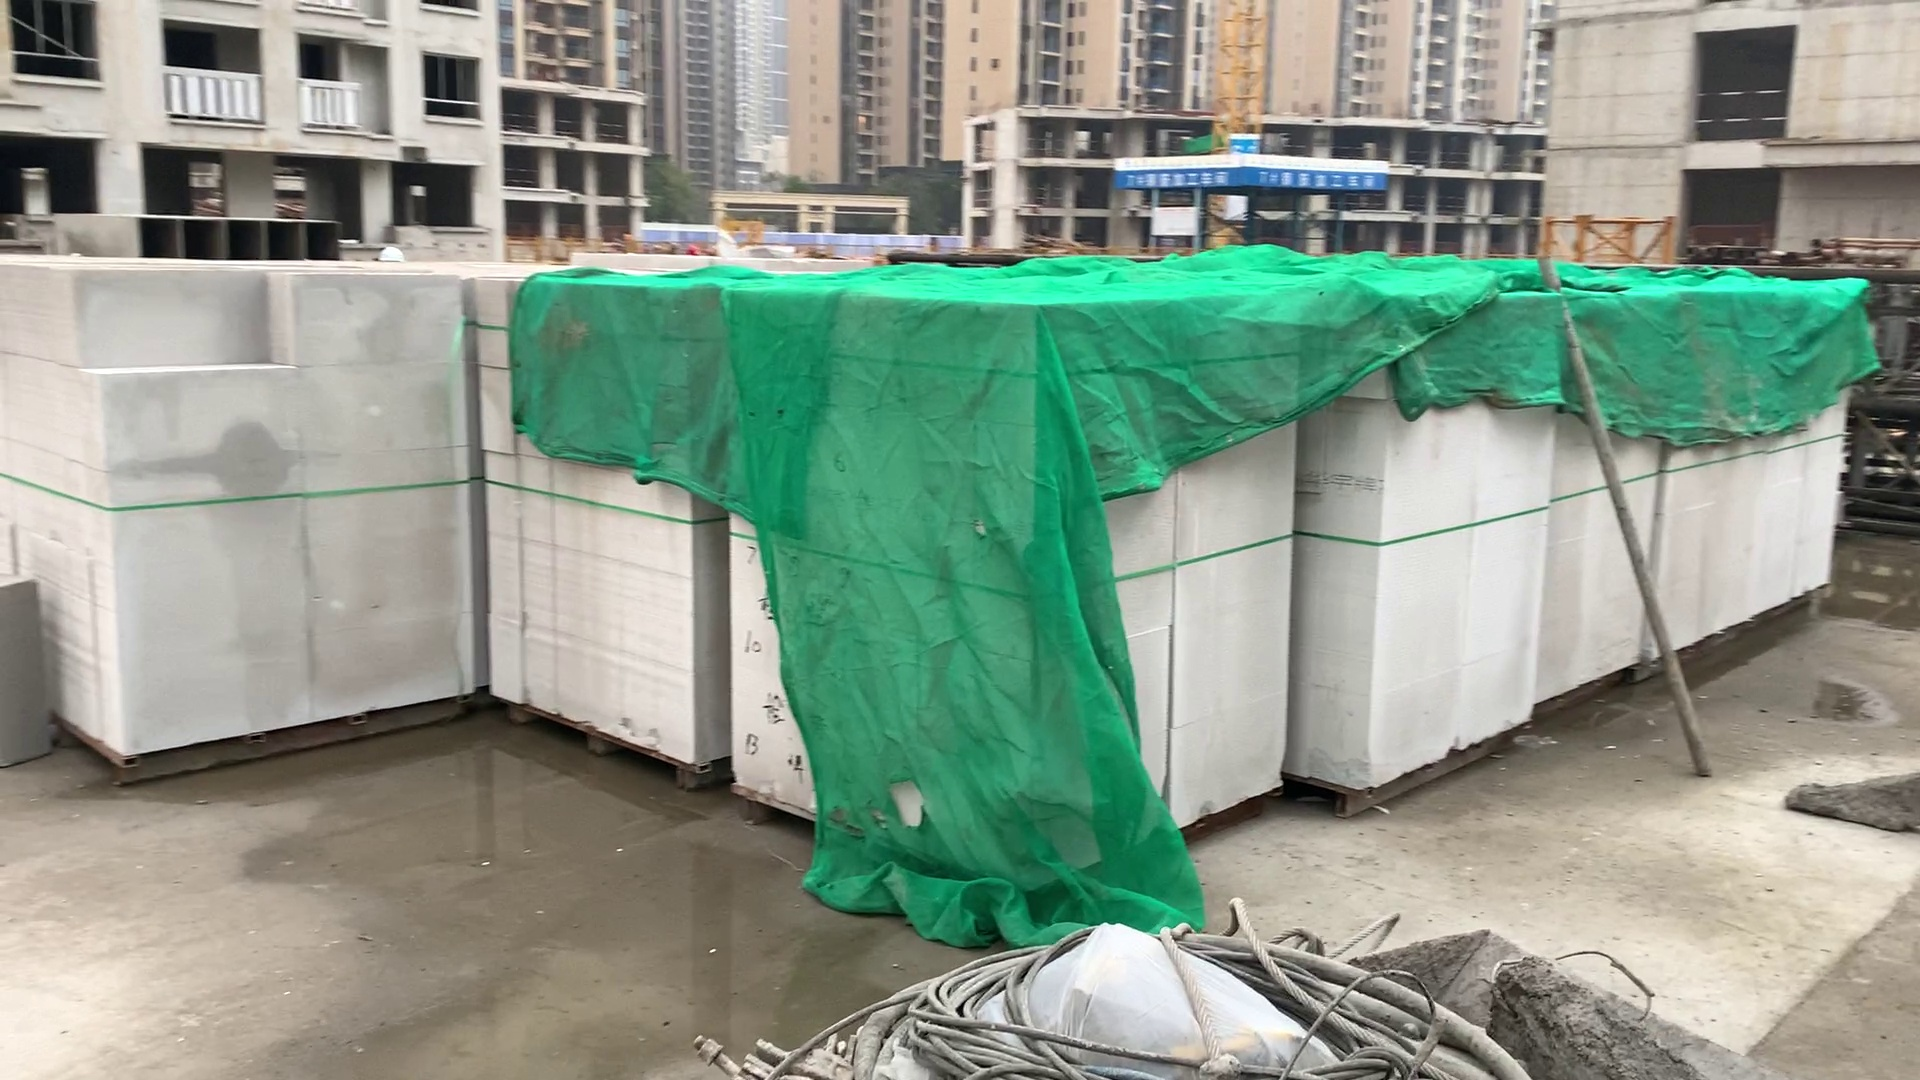brickwork: (51, 268, 477, 753), (731, 289, 1062, 884), (476, 281, 707, 764), (1346, 295, 1553, 803), (1673, 309, 1854, 633), (1549, 306, 1647, 702)
